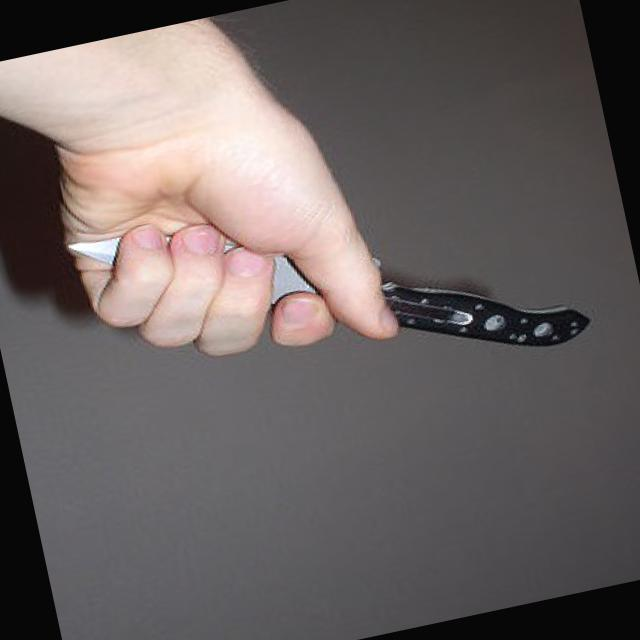knife: (51, 118, 606, 448)
